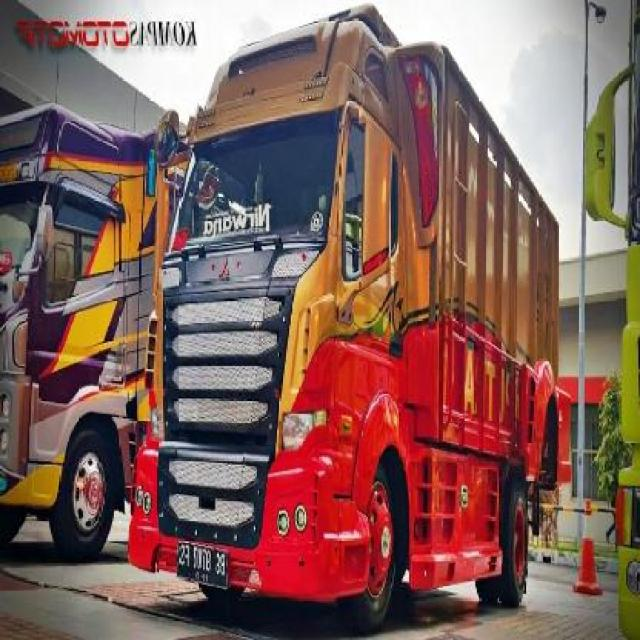truck: (135, 1, 564, 619)
